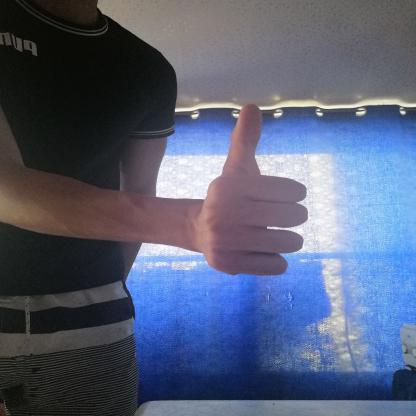ALIF: (182, 83, 333, 284)
